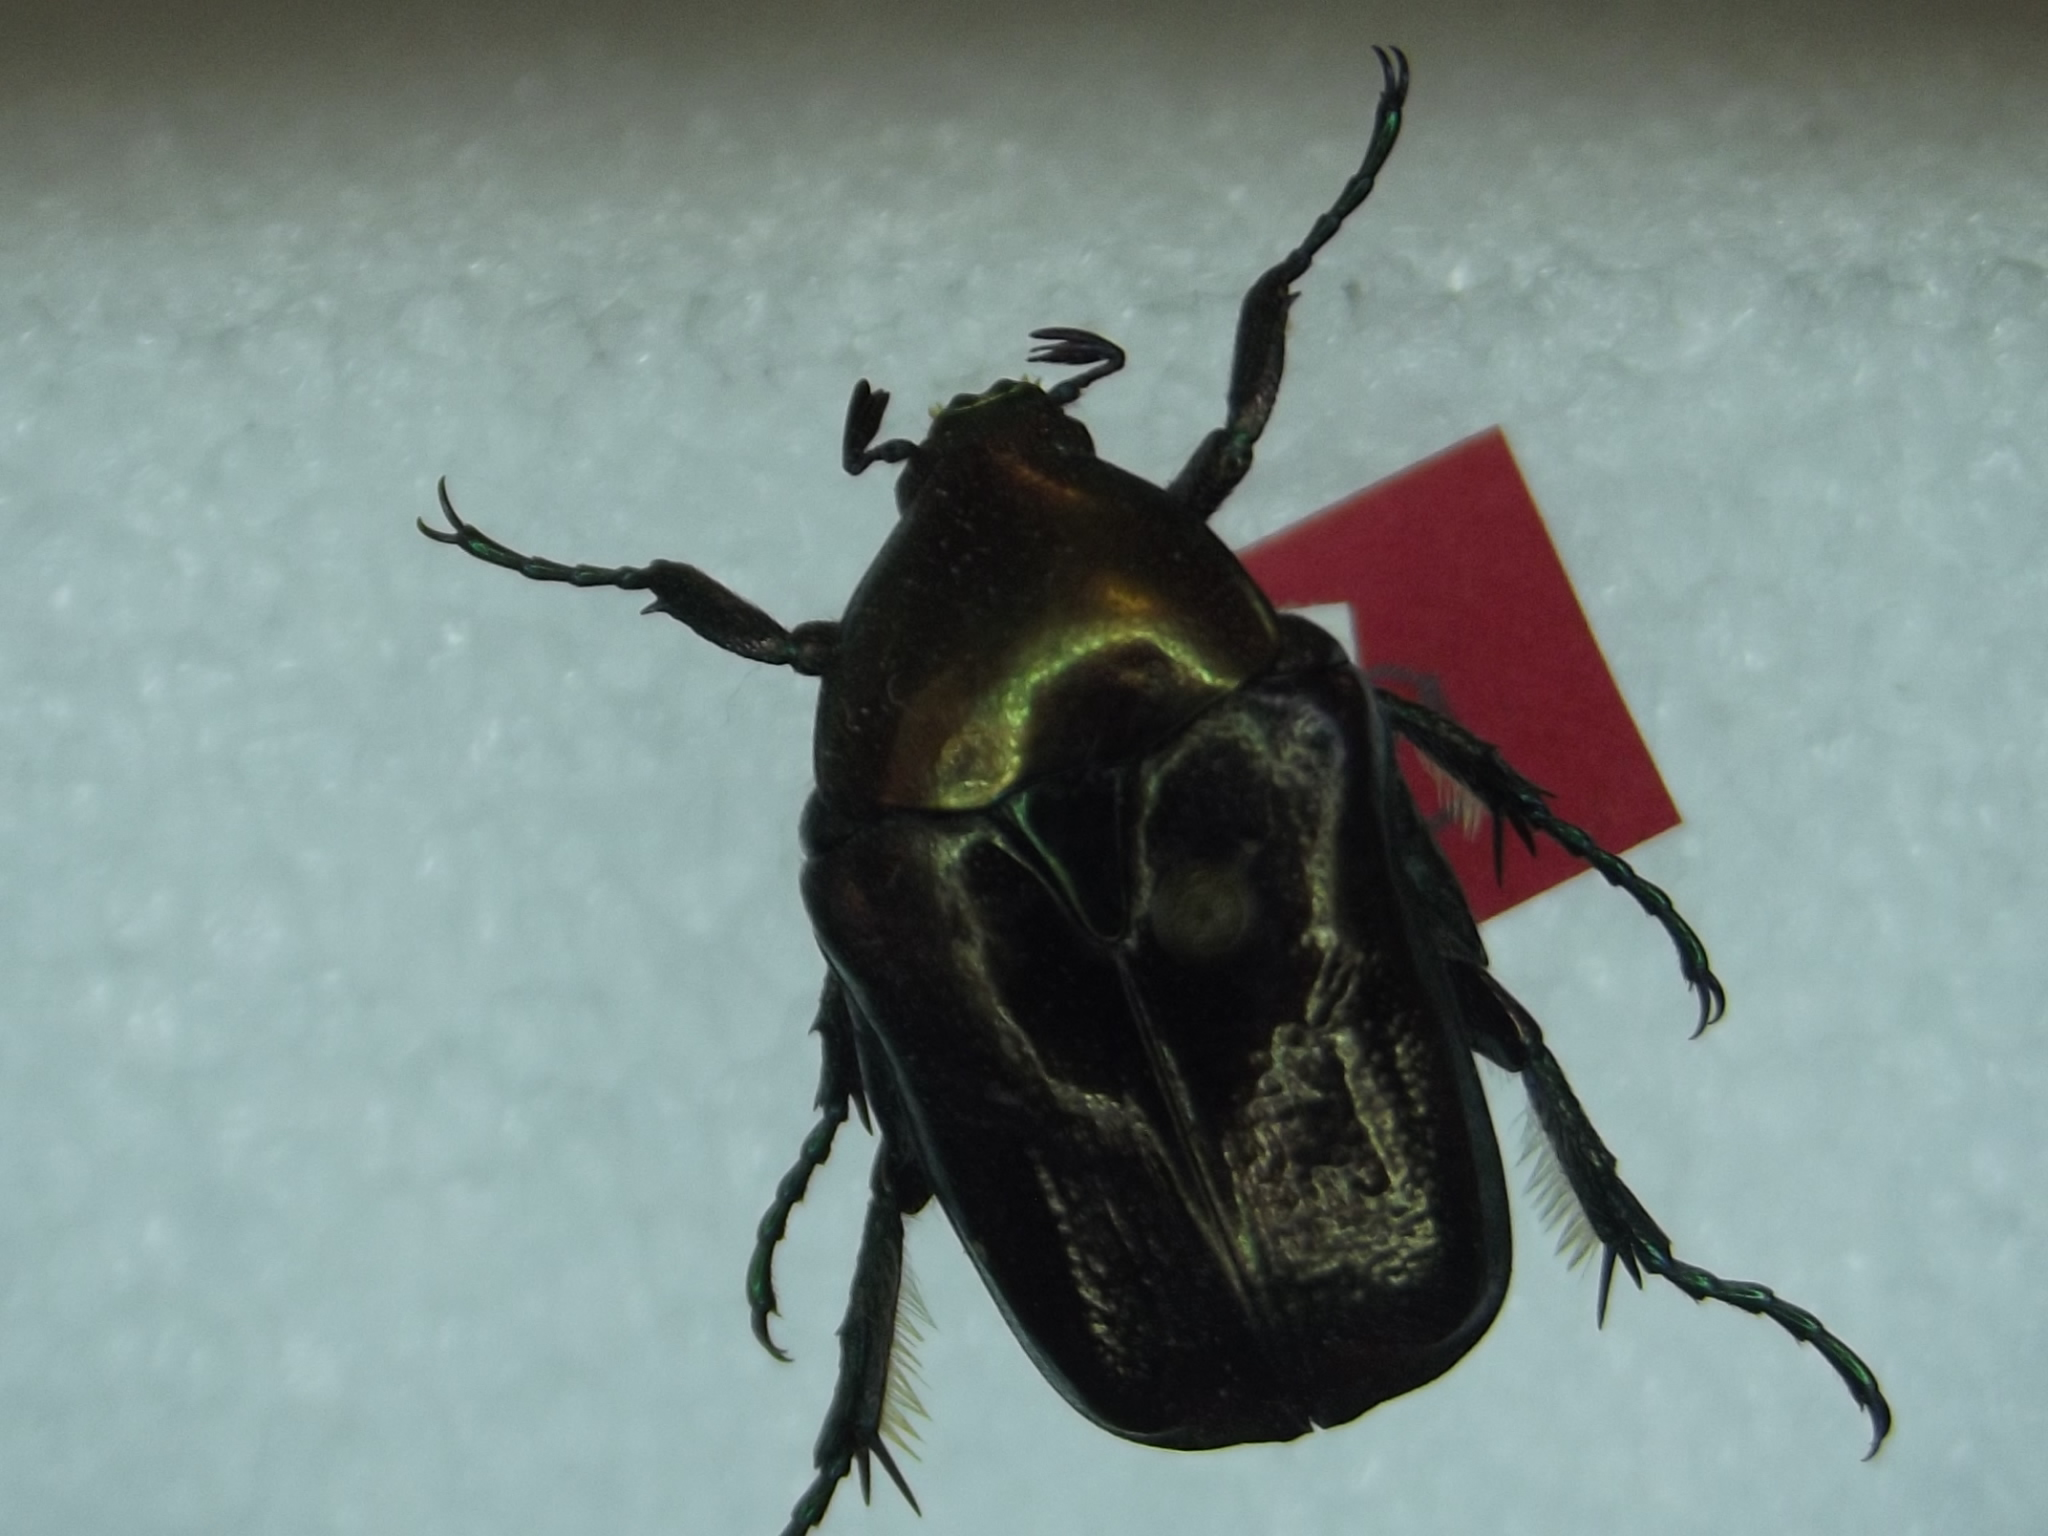Protaetia_besucheti: (385, 29, 1921, 1536)
